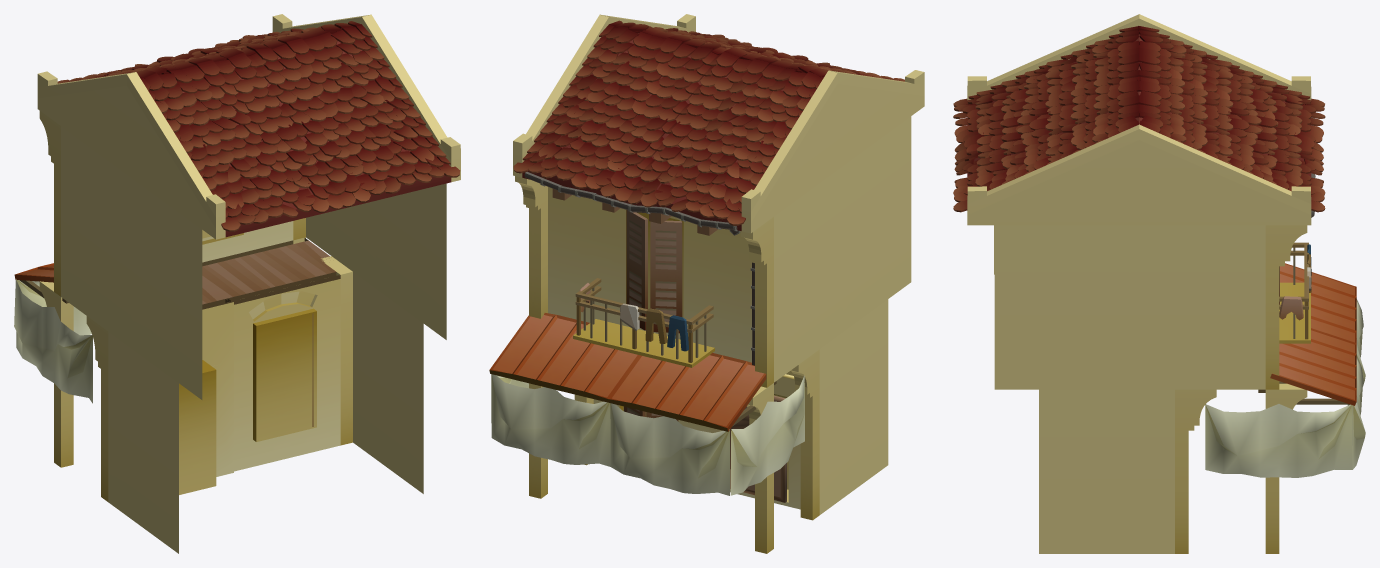
File: SM_FacadeOldQuarter_Double_03.fbx
The picture shows the model from 3 angles, left to right: view 1: azimuth 30°, elevation 25°; view 2: azimuth 150°, elevation 25°; view 3: azimuth 270°, elevation 25°; orthographic projection. The views are drawn at different scales.
Visible parts, largest first — view 1: SM_FacadeOldQuarter_Double_03.001; view 2: SM_FacadeOldQuarter_Double_03.001; view 3: SM_FacadeOldQuarter_Double_03.001.
Boxes of the visible parts, x1,y1,x2,y2 form: SM_FacadeOldQuarter_Double_03.001: (14,14,460,553); SM_FacadeOldQuarter_Double_03.001: (489,14,924,553); SM_FacadeOldQuarter_Double_03.001: (953,14,1365,553).
Bounding box in the file's own units: 659 × 1035 × 910.
